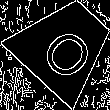O_NE: (32, 13, 98, 79)
